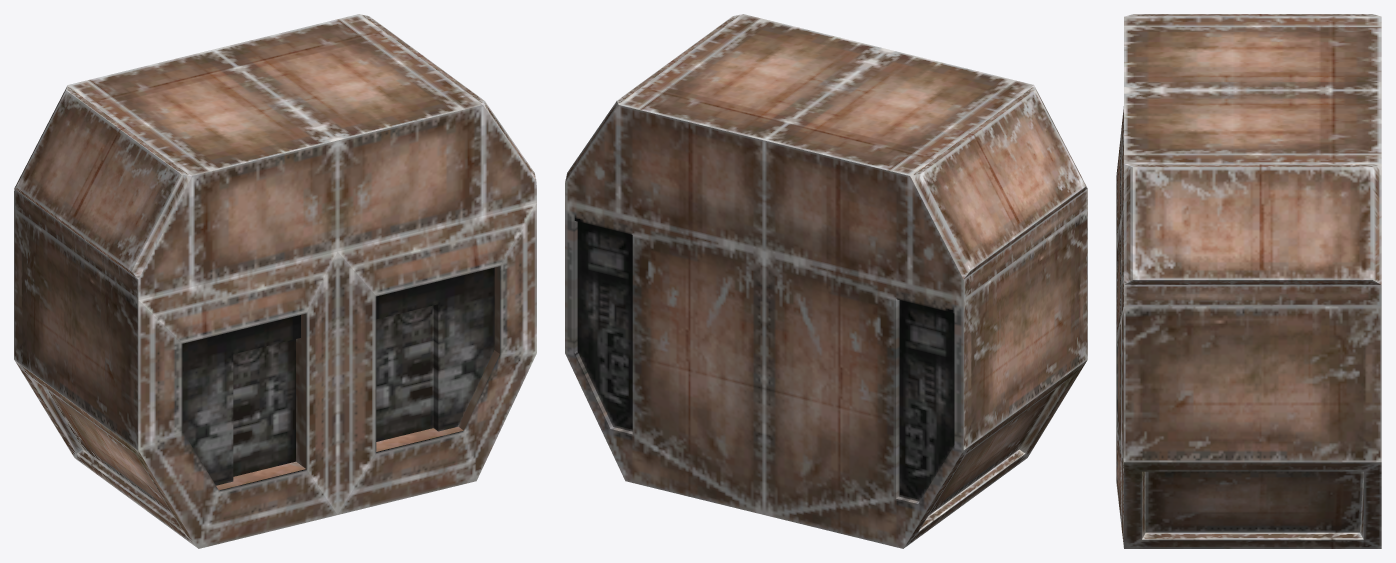
Rendered from cargo_freighter_crate_s04_l1.fbx.
3 views of the same model, side by side, from view 1: azimuth 30°, elevation 25°; view 2: azimuth 150°, elevation 25°; view 3: azimuth 270°, elevation 25° (orthographic). The views are drawn at different scales.
Parts seen in each view (by area): view 1: mesh_node; view 2: mesh_node; view 3: mesh_node.
Boxes of the visible parts, box(x1,y1,x2,y2) form: mesh_node: box(14, 14, 536, 548); mesh_node: box(565, 14, 1087, 548); mesh_node: box(1116, 14, 1381, 548).
Size of the model in its own units: 23.59 by 20.95 by 12.98.
